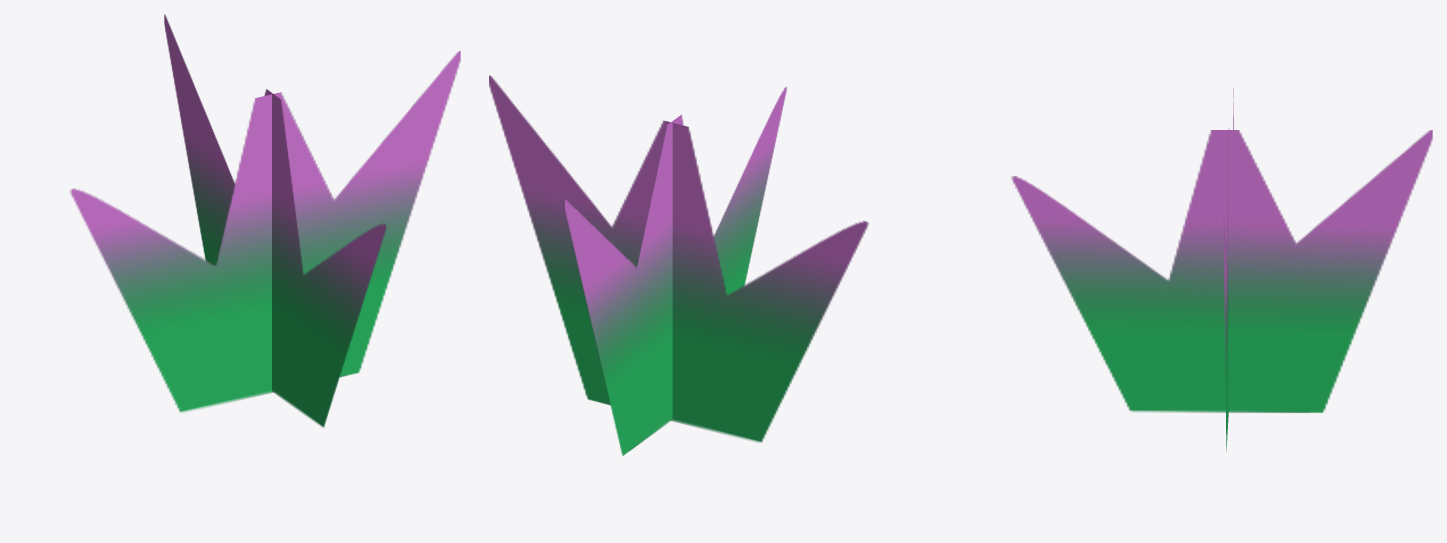
The model's file is purplegrass.glb.
3 renders of one model, left to right at view 1: azimuth 30°, elevation 25°; view 2: azimuth 150°, elevation 25°; view 3: azimuth 270°, elevation 25°, orthographic. The views are drawn at different scales.
Parts seen in each view (by area): view 1: grass.001, grass; view 2: grass.001, grass; view 3: grass, grass.001.
Boxes of the visible parts, <box> form: grass.001: <box>70,51,460,412</box>; grass: <box>164,14,386,427</box>; grass.001: <box>489,75,868,442</box>; grass: <box>565,87,786,455</box>; grass: <box>1011,130,1432,412</box>; grass.001: <box>1223,88,1233,451</box>.
Bounding box in the file's own units: 0.4374 × 0.3139 × 0.4375.
Materials: 1 (1 with a texture image).
